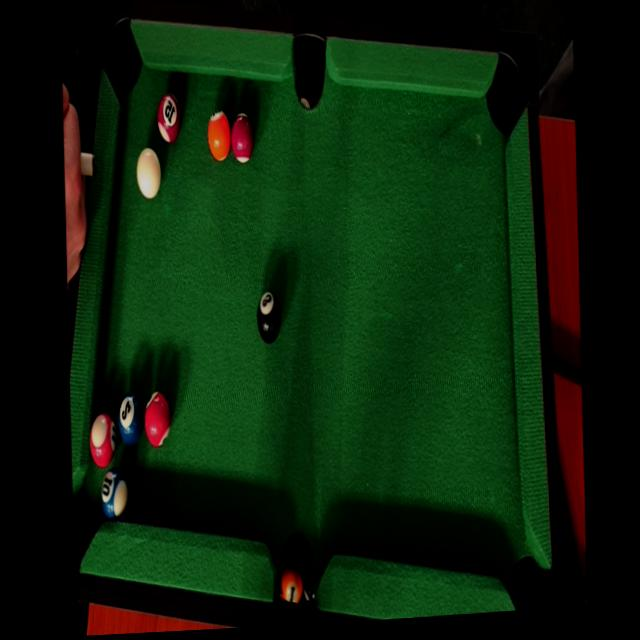cue ball: (135, 140, 162, 199)
other: (96, 465, 130, 529), (203, 102, 231, 170), (144, 384, 171, 449), (155, 87, 182, 149), (115, 390, 145, 445), (228, 111, 256, 168), (255, 284, 281, 345), (87, 411, 114, 468)
